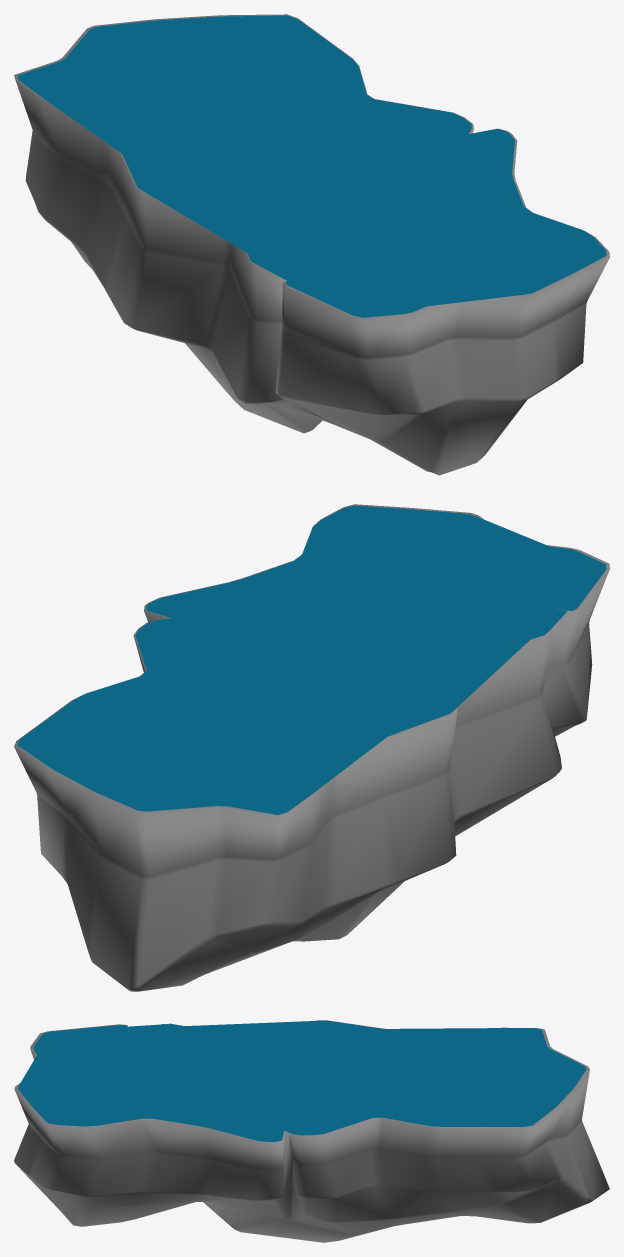
The model's file is Island_Desert_Medium 1.fbx.
The picture shows the model from 3 angles, top to bottom: view 1: azimuth 30°, elevation 25°; view 2: azimuth 150°, elevation 25°; view 3: azimuth 270°, elevation 25°; orthographic projection. The views are drawn at different scales.
Parts seen in each view (by area): view 1: Island Swamp Medium; view 2: Island Swamp Medium; view 3: Island Swamp Medium.
Boxes of the visible parts, box(x1,y1,x2,y2) form: Island Swamp Medium: box(14, 14, 609, 475); Island Swamp Medium: box(14, 504, 609, 991); Island Swamp Medium: box(14, 1020, 609, 1242).
Bounding box in the file's own units: 4556 × 3126 × 9203.
